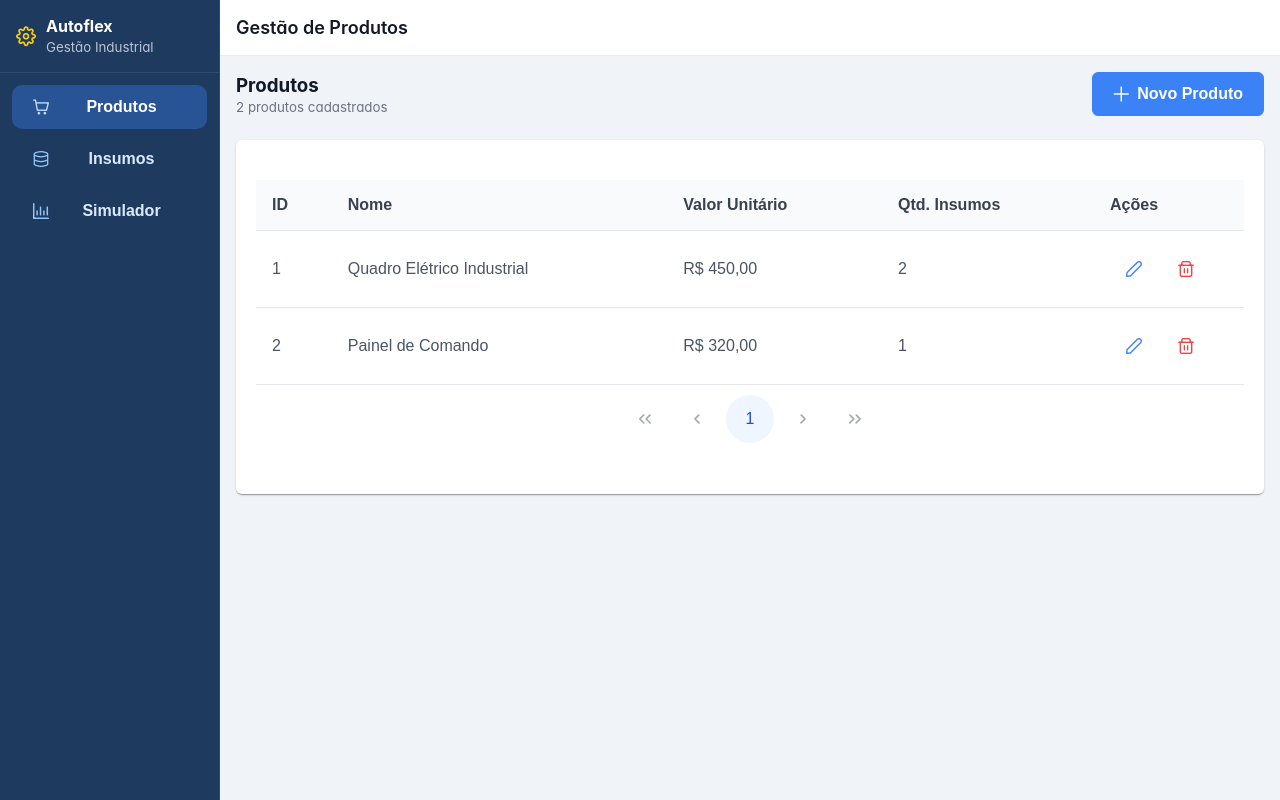
Products › edits a product
Click the 1st button with test id "edit-button": (1134, 269) [1110,247,1158,291]
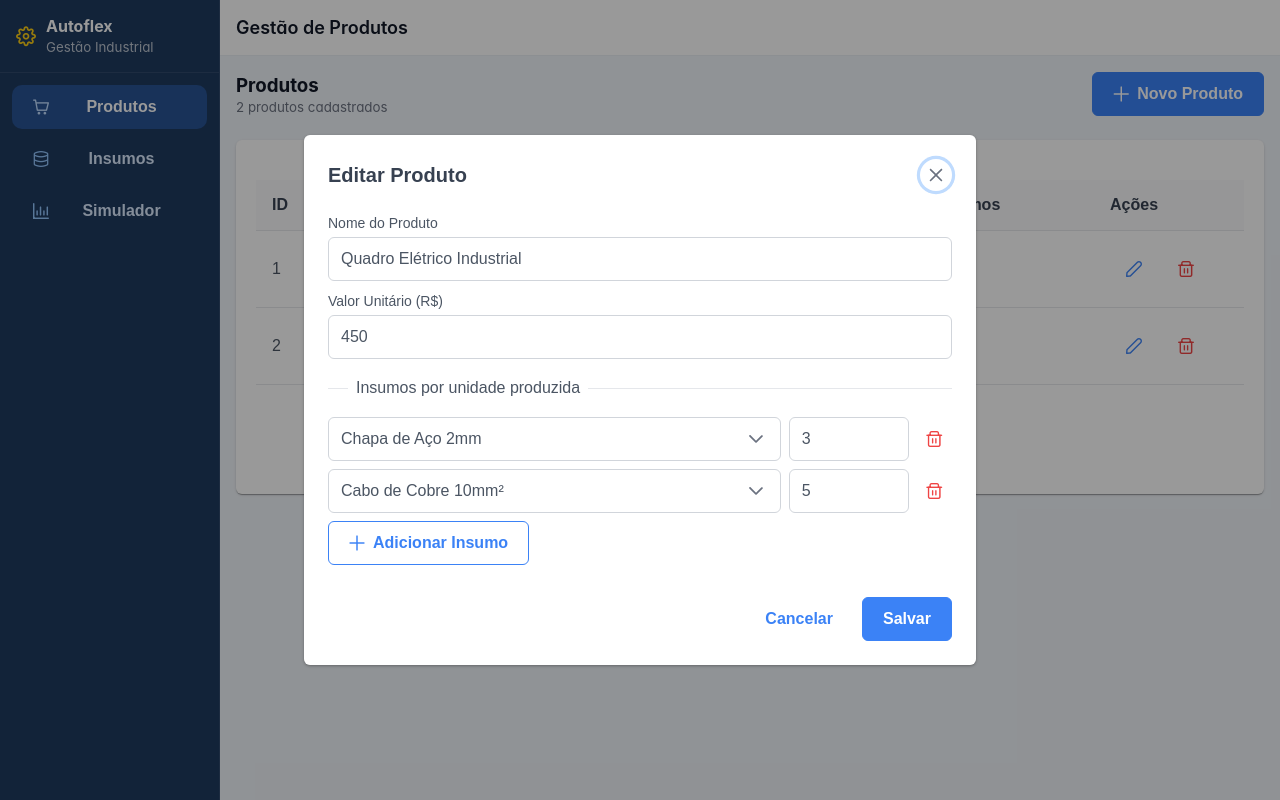
expect the text "Editar Produto" is shown: met, box [328,164,467,186]
Replace the text in the field with test id "name-input" with "[E2E] Produto Cypress Editado": (640, 259) [328,237,952,281]
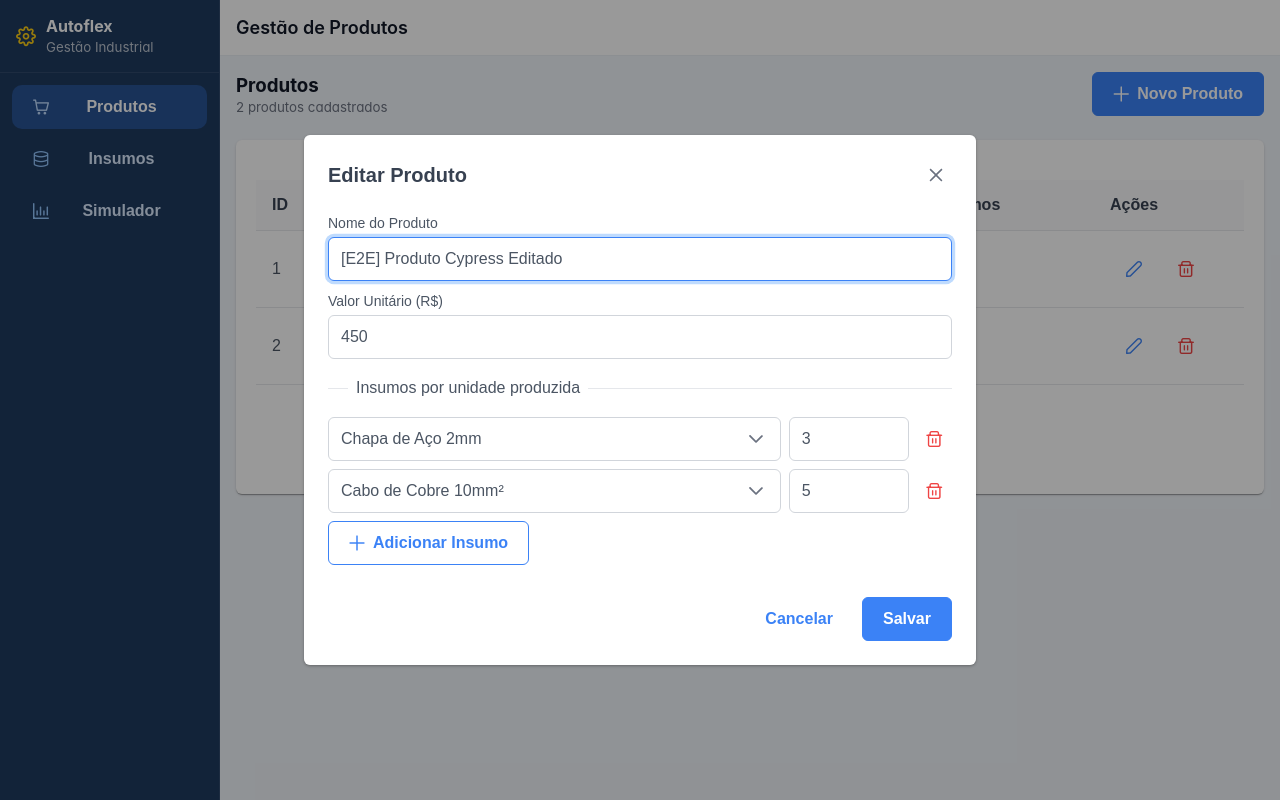
Click the button with test id "modal-ok-button": (907, 619) [862,597,952,641]
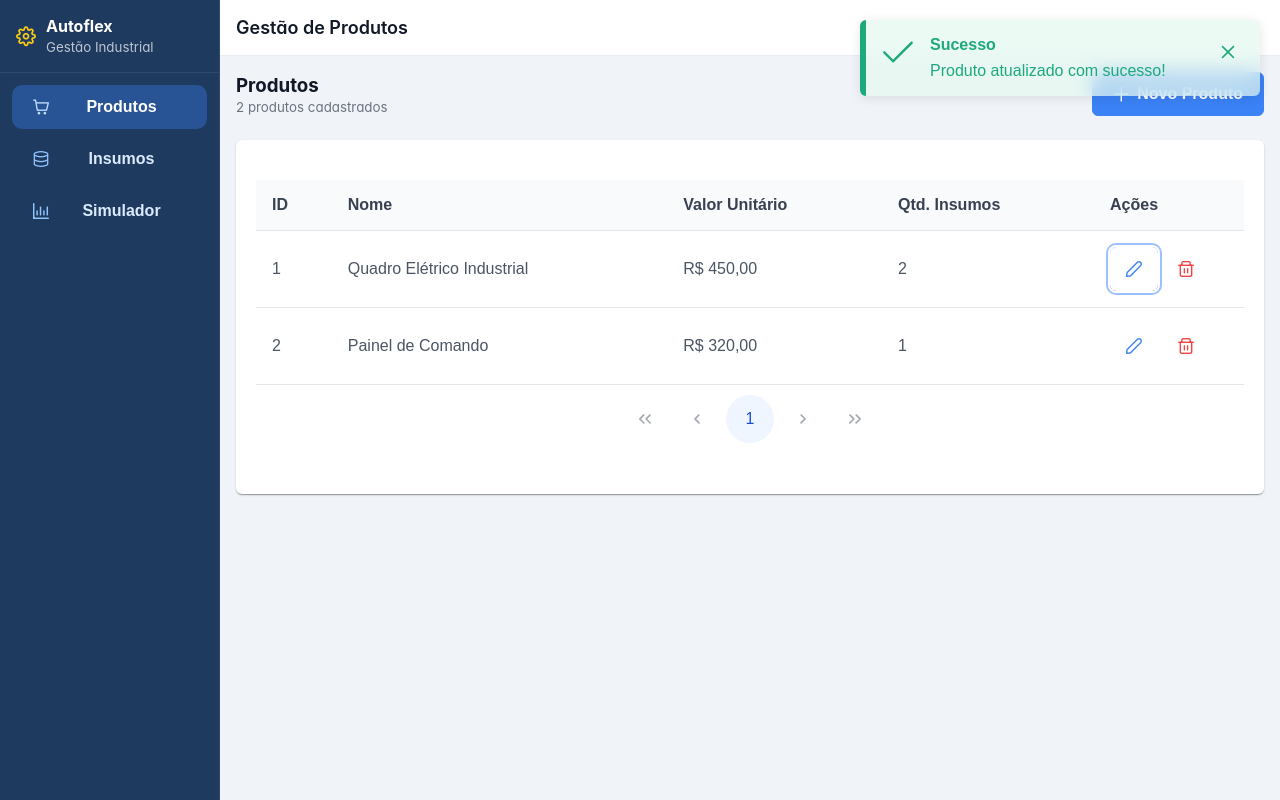
expect the text "Produto atualizado com sucesso" is shown: met, box [930,62,1166,79]
